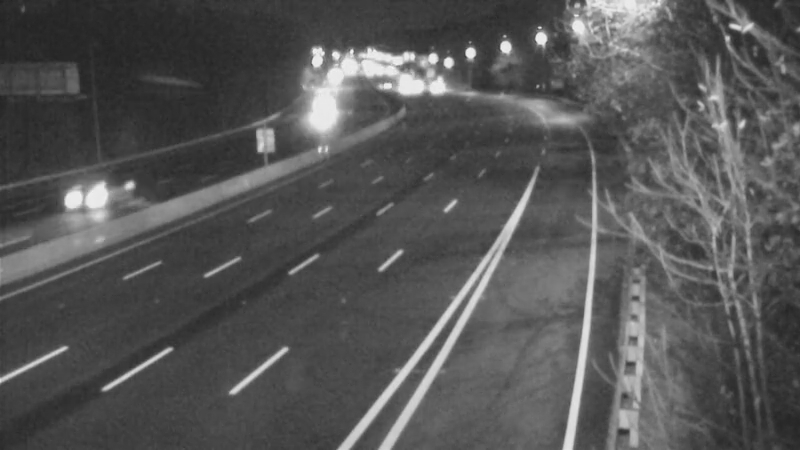vehicle: (40, 153, 120, 233), (409, 60, 459, 110)
